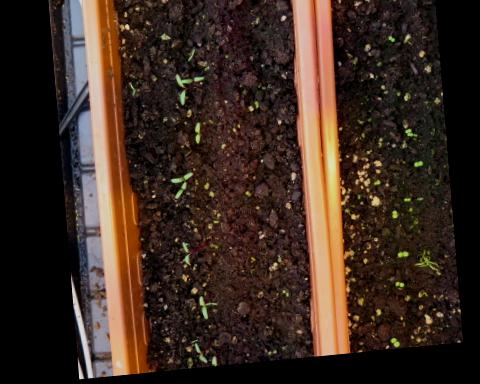crop: (185, 344, 202, 371), (173, 241, 187, 272), (188, 124, 201, 150), (201, 358, 212, 370)
weed: (381, 342, 395, 356), (386, 286, 400, 299), (407, 167, 422, 178), (389, 257, 405, 267), (385, 215, 393, 229), (384, 42, 394, 53)
